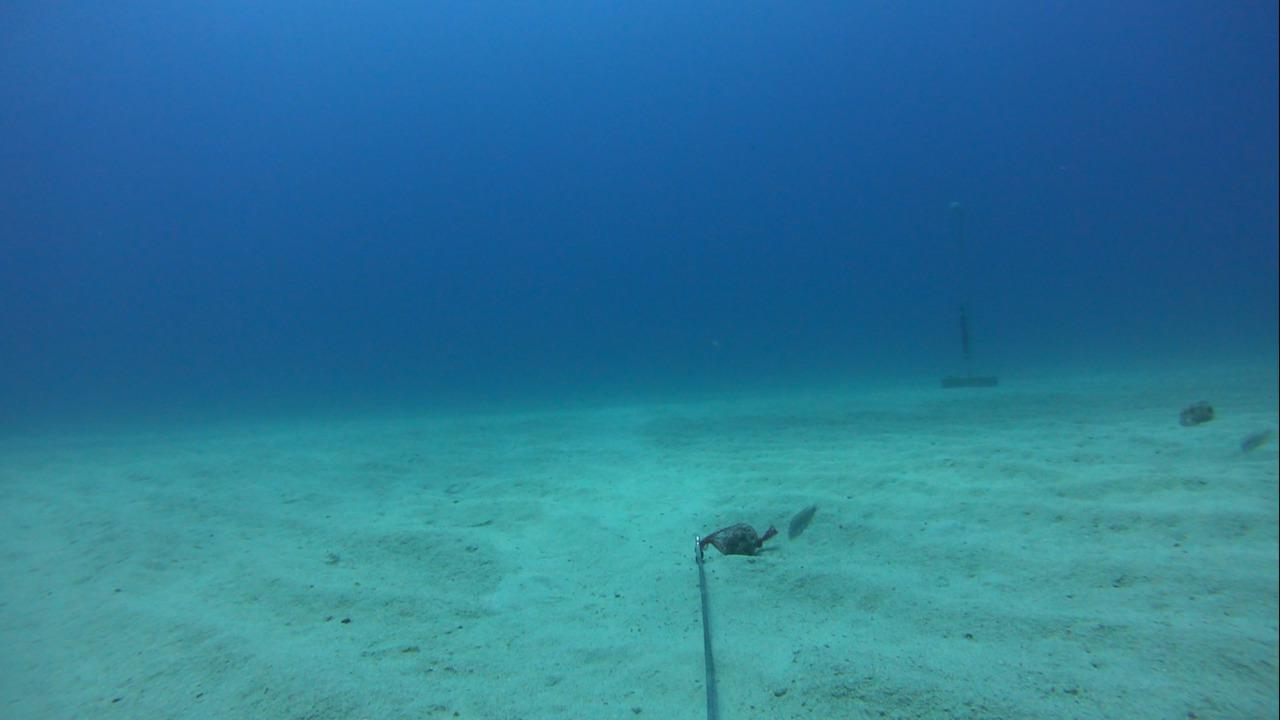raor: (778, 490, 825, 549), (1168, 395, 1221, 433), (1232, 418, 1275, 464)
